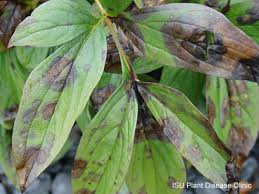Diseased_Leaves: (124, 71, 174, 153), (169, 18, 230, 68), (222, 77, 251, 155), (19, 101, 42, 189), (114, 14, 147, 52), (47, 61, 73, 94), (76, 160, 86, 178)
